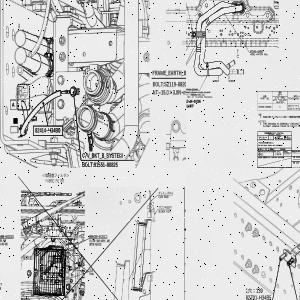PartNumber: (245, 294, 272, 300), (163, 80, 186, 87), (34, 128, 60, 134), (94, 162, 118, 168), (88, 234, 108, 238), (186, 99, 201, 103), (0, 234, 14, 238), (258, 106, 272, 109), (250, 50, 263, 53)
